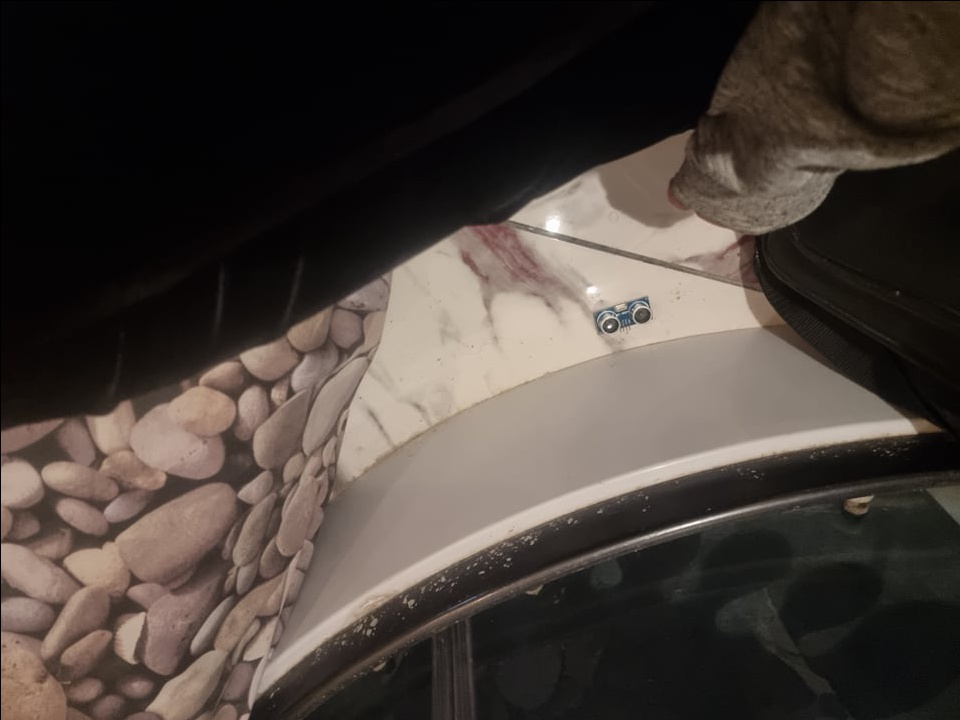SENSOR: (597, 300, 653, 334)
